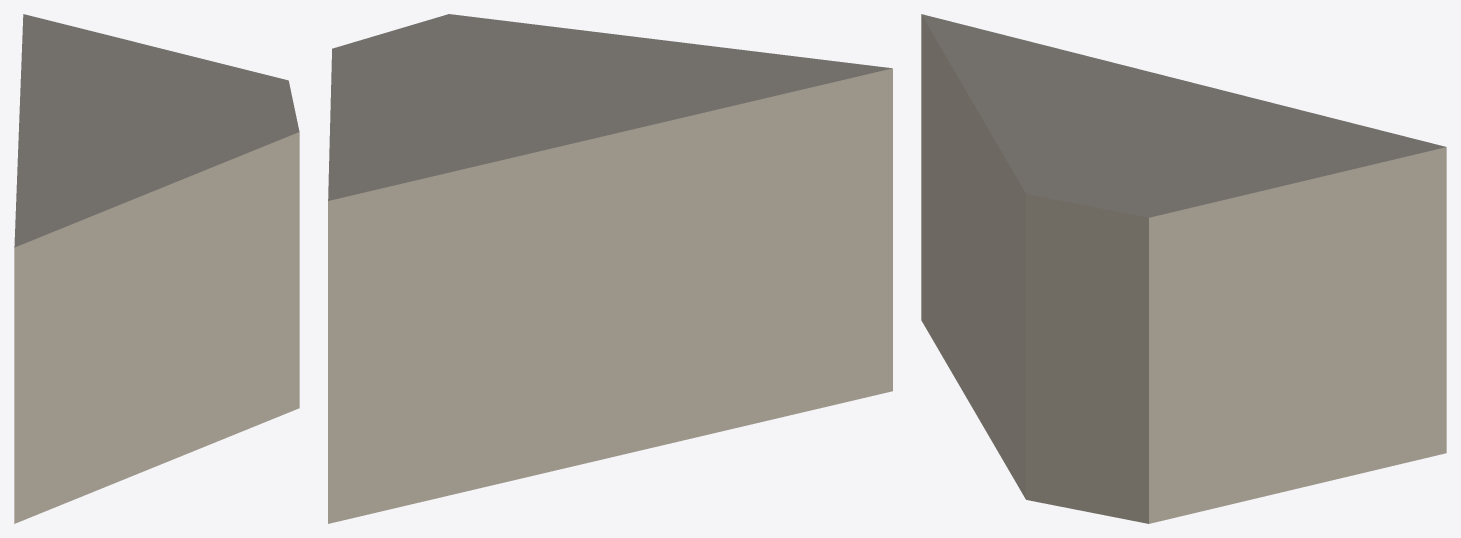
The picture shows the model from 3 angles, left to right: view 1: azimuth 30°, elevation 25°; view 2: azimuth 150°, elevation 25°; view 3: azimuth 270°, elevation 25°; orthographic projection. The views are drawn at different scales.
Visible parts, largest first — view 1: HP-w378107090; view 2: HP-w378107090; view 3: HP-w378107090.
Boxes of the visible parts, x1,y1,x2,y2 form: HP-w378107090: (14,14,299,523); HP-w378107090: (328,14,892,523); HP-w378107090: (921,14,1446,523).
Bounding box in the file's own units: 21.42 × 15 × 23.34.
